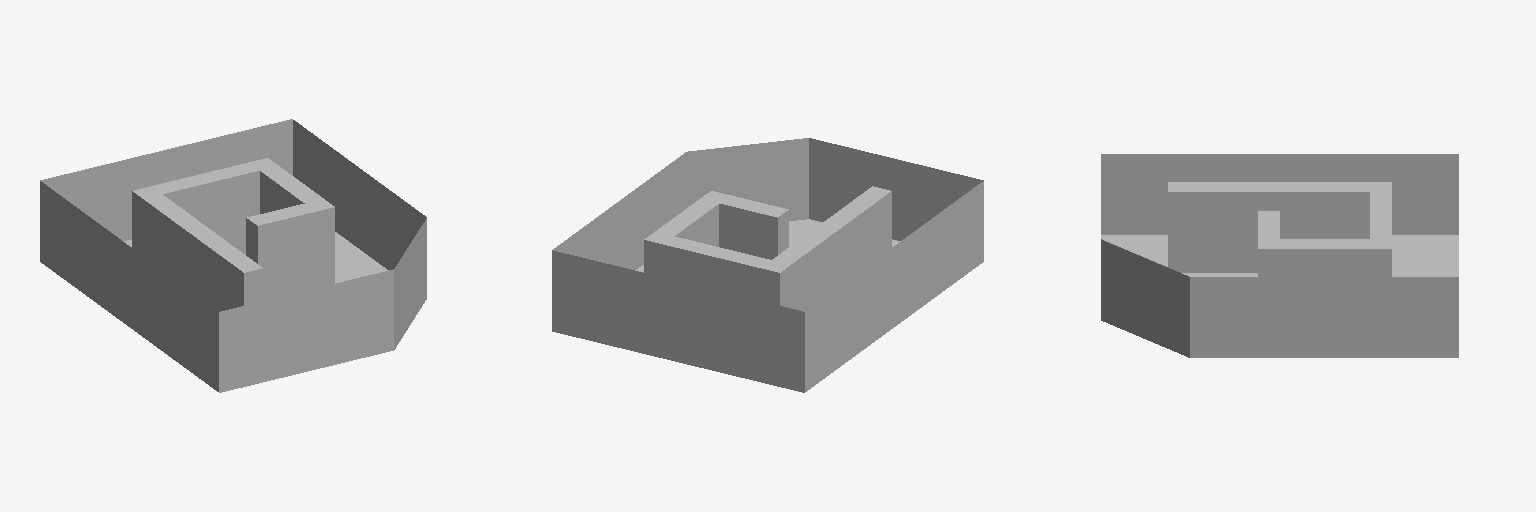
Rendered from gekregen ruimte 8K.obj.
3 renders of one model, left to right at view 1: azimuth 30°, elevation 25°; view 2: azimuth 150°, elevation 25°; view 3: azimuth 270°, elevation 25°, orthographic.
Parts seen in each view (by area): view 1: ext_vlak_11_Plane.021, ext_vlak_8_Plane.018, ext_vlak_9_Plane.019, r_vlak_2_Plane.001, r_vlak_9_Plane.008, ext_vlak_6_Plane.016, r_vlak_5_Plane.004, ext_vlak_10_Plane.020, ext_vlak_7_Plane.017, ext_vlak_1_Plane.011, ext_vlak_5_Plane.015, ext_vlak_2_Plane.012 (+5 smaller); view 2: ext_vlak_11_Plane.021, ext_vlak_8_Plane.018, ext_vlak_6_Plane.016, ext_vlak_10_Plane.020, ext_vlak_7_Plane.017, ext_vlak_9_Plane.019, r_vlak_2_Plane.001, ext_vlak_5_Plane.015, r_vlak_4_Plane.003, r_vlak_8_Plane.007, ext_vlak_1_Plane.011, ext_vlak_2_Plane.012 (+3 smaller); view 3: ext_vlak_9_Plane.019, ext_vlak_11_Plane.021, r_vlak_3_Plane.002, ext_vlak_7_Plane.017, ext_vlak_12_Plane.022, r_vlak_7_Plane.006, ext_vlak_1_Plane.011, ext_vlak_2_Plane.012, ext_vlak_3_Plane.013, ext_vlak_4_Plane.014.
Boxes of the visible parts, <box> form: ext_vlak_11_Plane.021: <box>40,181,218,391</box>; ext_vlak_8_Plane.018: <box>219,269,393,392</box>; ext_vlak_9_Plane.019: <box>293,120,426,269</box>; r_vlak_2_Plane.001: <box>132,191,243,311</box>; r_vlak_9_Plane.008: <box>258,207,334,300</box>; ext_vlak_6_Plane.016: <box>40,157,136,240</box>; r_vlak_5_Plane.004: <box>163,171,259,254</box>; ext_vlak_10_Plane.020: <box>195,119,292,175</box>; ext_vlak_7_Plane.017: <box>394,218,426,349</box>; ext_vlak_1_Plane.011: <box>144,194,262,272</box>; ext_vlak_5_Plane.015: <box>137,143,194,189</box>; ext_vlak_2_Plane.012: <box>133,158,278,198</box>; ext_vlak_11_Plane.021: <box>805,181,983,391</box>; ext_vlak_8_Plane.018: <box>809,138,983,240</box>; ext_vlak_6_Plane.016: <box>707,288,804,392</box>; ext_vlak_10_Plane.020: <box>552,250,648,354</box>; ext_vlak_7_Plane.017: <box>687,138,808,220</box>; ext_vlak_9_Plane.019: <box>553,152,686,269</box>; r_vlak_2_Plane.001: <box>780,191,891,311</box>; ext_vlak_5_Plane.015: <box>649,274,706,368</box>; r_vlak_4_Plane.003: <box>644,240,779,305</box>; r_vlak_8_Plane.007: <box>719,204,777,259</box>; ext_vlak_1_Plane.011: <box>772,186,890,264</box>; ext_vlak_2_Plane.012: <box>644,232,789,272</box>; ext_vlak_9_Plane.019: <box>1190,277,1458,357</box>; ext_vlak_11_Plane.021: <box>1101,154,1458,234</box>; r_vlak_3_Plane.002: <box>1168,192,1369,272</box>; ext_vlak_7_Plane.017: <box>1101,239,1189,357</box>; ext_vlak_12_Plane.022: <box>1101,235,1458,276</box>; r_vlak_7_Plane.006: <box>1258,249,1391,276</box>; ext_vlak_1_Plane.011: <box>1168,182,1369,191</box>; ext_vlak_2_Plane.012: <box>1370,182,1391,248</box>; ext_vlak_3_Plane.013: <box>1258,239,1369,248</box>; ext_vlak_4_Plane.014: <box>1258,211,1279,238</box>.
Size of the model in its own units: 13 by 4 by 16.